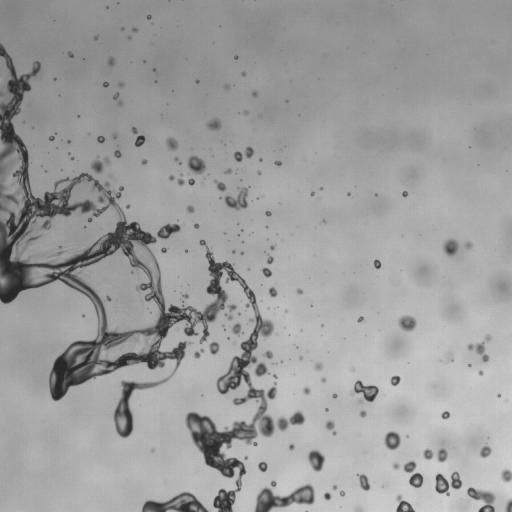droplet: (434, 471, 463, 496), (467, 486, 496, 511), (348, 380, 379, 403), (90, 154, 111, 174), (307, 449, 325, 472), (187, 155, 206, 175), (157, 223, 180, 239), (383, 430, 401, 450), (398, 314, 417, 332), (396, 493, 415, 511), (442, 238, 459, 256), (356, 473, 370, 490), (229, 322, 244, 337), (205, 117, 221, 130), (479, 442, 492, 458), (165, 136, 178, 151), (439, 351, 454, 364), (325, 419, 337, 435), (213, 179, 226, 192), (134, 133, 146, 147), (435, 448, 447, 462), (208, 341, 219, 355), (500, 468, 511, 482), (260, 266, 272, 277), (389, 375, 401, 386), (422, 448, 433, 460), (176, 172, 185, 186), (0, 70, 11, 81), (10, 115, 21, 126), (103, 140, 114, 151), (262, 159, 273, 170), (169, 164, 180, 175), (182, 168, 193, 179), (95, 171, 106, 182), (33, 188, 44, 199), (184, 213, 195, 224), (201, 272, 212, 283), (218, 276, 229, 287), (263, 276, 274, 287), (81, 296, 92, 307), (401, 306, 412, 317), (89, 318, 100, 329), (242, 323, 253, 334), (167, 324, 178, 335), (86, 329, 97, 340), (160, 341, 171, 352), (163, 357, 174, 368), (117, 365, 128, 376), (151, 366, 162, 377), (250, 376, 261, 387), (259, 379, 270, 390), (378, 380, 389, 391), (237, 382, 248, 393), (127, 394, 138, 405), (248, 397, 259, 408), (254, 432, 265, 443), (301, 459, 312, 470), (244, 460, 255, 471), (306, 474, 317, 485), (424, 476, 435, 487), (223, 479, 234, 490), (272, 486, 283, 497), (155, 492, 166, 503), (202, 497, 213, 508), (244, 146, 254, 158), (268, 286, 278, 297), (194, 348, 204, 358), (234, 151, 243, 162), (262, 350, 273, 359), (504, 498, 511, 511), (107, 56, 116, 66), (258, 461, 267, 471), (0, 211, 8, 222), (464, 240, 473, 249), (107, 84, 116, 93), (18, 100, 27, 109), (205, 112, 214, 121), (13, 126, 22, 135), (86, 154, 95, 163), (202, 157, 211, 166), (101, 164, 110, 173), (186, 169, 195, 178), (219, 174, 228, 183), (109, 183, 118, 192), (229, 190, 238, 199), (188, 213, 197, 222), (155, 237, 164, 246), (456, 244, 465, 253), (154, 251, 163, 260), (17, 289, 26, 298), (207, 293, 216, 302), (196, 303, 205, 312), (245, 308, 254, 317), (215, 309, 224, 318), (177, 319, 186, 328), (194, 322, 203, 331), (395, 326, 404, 335), (407, 328, 416, 337), (404, 329, 413, 338), (178, 332, 187, 341), (255, 334, 264, 343), (471, 335, 480, 344), (201, 340, 210, 349), (183, 346, 192, 355), (234, 347, 243, 356), (262, 357, 271, 366), (479, 361, 488, 370), (132, 374, 141, 383), (67, 384, 76, 393), (130, 388, 139, 397), (226, 388, 235, 397), (114, 389, 123, 398), (326, 398, 335, 407), (283, 410, 292, 419), (322, 412, 331, 421), (286, 422, 295, 431), (215, 423, 224, 432), (218, 444, 227, 453), (195, 451, 204, 460), (210, 467, 219, 476), (313, 491, 322, 500), (475, 498, 484, 507), (248, 499, 257, 508), (373, 259, 381, 269), (494, 504, 505, 511), (314, 362, 322, 371), (441, 411, 450, 419), (323, 492, 332, 500), (269, 505, 280, 511), (186, 205, 194, 213), (302, 386, 310, 394), (114, 149, 121, 158), (160, 246, 169, 253), (131, 126, 138, 134), (97, 136, 105, 143), (274, 160, 282, 167), (187, 178, 195, 185), (357, 316, 365, 323), (359, 409, 366, 417), (288, 443, 295, 451), (392, 461, 399, 469), (0, 139, 5, 150), (67, 51, 74, 58), (223, 83, 230, 90), (111, 132, 118, 139), (124, 27, 131, 34), (4, 46, 11, 53), (101, 56, 108, 63), (25, 66, 32, 73), (27, 77, 34, 84), (22, 90, 29, 97), (219, 119, 226, 126), (209, 128, 216, 135), (173, 134, 180, 141), (160, 141, 167, 148), (239, 147, 246, 154), (170, 149, 177, 156), (197, 152, 204, 159), (251, 152, 258, 159), (108, 153, 115, 160), (256, 162, 263, 169), (26, 166, 33, 173), (87, 168, 94, 175), (200, 169, 207, 176), (91, 171, 98, 178), (46, 185, 53, 192), (219, 190, 226, 197), (168, 218, 175, 225), (140, 224, 147, 231), (150, 230, 157, 237), (169, 231, 176, 238), (269, 249, 276, 256), (439, 249, 446, 256), (213, 256, 220, 263), (220, 267, 227, 274), (159, 281, 166, 288), (247, 282, 254, 289), (242, 296, 249, 303), (184, 298, 191, 305), (223, 299, 230, 306), (174, 300, 181, 307), (222, 306, 229, 313), (260, 313, 267, 320), (228, 319, 235, 326), (206, 320, 213, 327), (248, 322, 255, 329), (413, 323, 420, 330), (272, 324, 279, 331), (166, 327, 173, 334), (225, 328, 232, 335), (229, 332, 236, 339), (268, 332, 275, 339), (242, 333, 249, 340), (188, 334, 195, 341), (206, 335, 213, 342), (483, 347, 490, 354), (469, 348, 476, 355), (250, 349, 257, 356), (293, 349, 300, 356), (53, 350, 60, 357), (475, 353, 482, 360), (314, 355, 321, 362), (47, 360, 54, 367), (140, 361, 147, 368), (316, 370, 323, 377), (125, 375, 132, 382), (83, 379, 90, 386), (142, 387, 149, 394), (274, 389, 281, 396), (44, 390, 51, 397), (59, 395, 66, 402), (265, 397, 272, 404), (264, 408, 271, 415), (197, 409, 204, 416), (301, 410, 308, 417), (179, 414, 186, 421), (210, 415, 217, 422), (244, 417, 251, 424), (131, 419, 138, 426), (319, 419, 326, 426), (293, 422, 300, 429), (319, 423, 326, 430), (390, 425, 397, 432), (130, 428, 137, 435), (112, 431, 119, 438), (379, 431, 386, 438), (398, 433, 405, 440), (115, 434, 122, 441), (186, 436, 193, 443), (230, 437, 237, 444), (378, 437, 385, 444), (379, 441, 386, 448), (392, 447, 399, 454), (318, 448, 325, 455), (302, 450, 309, 457), (431, 452, 438, 459), (398, 459, 405, 466), (321, 460, 328, 467), (232, 466, 239, 473), (311, 469, 318, 476), (495, 473, 502, 480), (353, 478, 360, 485), (296, 480, 303, 487), (460, 484, 467, 491), (254, 486, 261, 493), (447, 486, 454, 493), (329, 489, 336, 496), (196, 495, 203, 502), (137, 499, 144, 506), (300, 502, 307, 509), (224, 168, 232, 174), (295, 288, 303, 294), (102, 81, 109, 87), (117, 82, 124, 88), (251, 90, 257, 97), (242, 109, 249, 115), (141, 158, 147, 165), (168, 174, 174, 181), (402, 190, 408, 197), (269, 244, 276, 250), (320, 377, 327, 383), (381, 481, 388, 487), (265, 210, 271, 216), (339, 490, 345, 496), (0, 55, 4, 64), (131, 27, 138, 32), (126, 35, 132, 40), (241, 70, 246, 76), (21, 119, 27, 124), (49, 135, 54, 141), (193, 223, 199, 228), (332, 393, 337, 399), (332, 484, 337, 490), (507, 464, 511, 471), (507, 479, 511, 486), (146, 14, 151, 19), (93, 35, 98, 40), (125, 204, 130, 209), (350, 367, 355, 372), (478, 370, 483, 375), (132, 22, 137, 27), (130, 31, 135, 36), (71, 49, 76, 54), (112, 53, 117, 58), (32, 56, 37, 61), (66, 56, 71, 61), (113, 62, 118, 67), (107, 65, 112, 70), (35, 71, 40, 76), (245, 71, 250, 76), (239, 75, 244, 80), (117, 87, 122, 92), (248, 87, 253, 92), (256, 91, 261, 96), (249, 95, 254, 100), (112, 99, 117, 104), (239, 113, 244, 118), (127, 128, 132, 133), (136, 130, 141, 135), (132, 133, 137, 138), (22, 139, 27, 144), (141, 142, 146, 147), (133, 145, 138, 150), (251, 145, 256, 150), (241, 153, 246, 158), (27, 156, 32, 161), (98, 156, 103, 161), (275, 156, 280, 161), (136, 158, 141, 163), (231, 158, 236, 163), (146, 159, 151, 164), (234, 160, 239, 165), (143, 163, 148, 168), (222, 165, 227, 170), (74, 171, 79, 176), (164, 173, 169, 178), (68, 174, 73, 179), (173, 174, 178, 179), (55, 175, 60, 180), (183, 177, 188, 182), (217, 177, 222, 182), (172, 178, 177, 183), (98, 179, 103, 184), (183, 180, 188, 185), (117, 181, 122, 186), (212, 183, 217, 188), (114, 187, 119, 192), (314, 188, 319, 193), (120, 190, 125, 195), (313, 192, 318, 197), (39, 195, 44, 200), (113, 197, 118, 202), (245, 197, 250, 202), (220, 198, 225, 203), (187, 200, 192, 205), (192, 204, 197, 209), (121, 206, 126, 211), (229, 206, 234, 211), (239, 207, 244, 212), (182, 208, 187, 213), (5, 213, 10, 218), (162, 220, 167, 225), (176, 220, 181, 225), (238, 223, 243, 228), (179, 225, 184, 230), (155, 236, 160, 241), (469, 237, 474, 242), (205, 240, 210, 245), (267, 240, 272, 245), (147, 242, 152, 247), (471, 244, 476, 249), (273, 246, 278, 251), (265, 247, 270, 252), (466, 248, 471, 253), (234, 250, 239, 255), (227, 258, 232, 263), (204, 261, 209, 266), (369, 262, 374, 267), (158, 263, 163, 268), (265, 263, 270, 268), (233, 267, 238, 272), (259, 272, 264, 277), (240, 273, 245, 278), (54, 278, 59, 283), (232, 279, 237, 284), (245, 280, 250, 285), (41, 284, 46, 289), (38, 285, 43, 290), (65, 285, 70, 290), (35, 286, 40, 291), (264, 286, 269, 291), (274, 286, 279, 291), (291, 286, 296, 291), (201, 287, 206, 292), (71, 288, 76, 293), (253, 291, 258, 296), (292, 291, 297, 296), (265, 292, 270, 297), (297, 293, 302, 298), (254, 295, 259, 300), (270, 296, 275, 301), (255, 299, 260, 304), (247, 305, 252, 310), (231, 309, 236, 314), (206, 327, 211, 332), (270, 330, 275, 335), (487, 330, 492, 335), (198, 331, 203, 336), (74, 336, 79, 341), (465, 339, 470, 344), (173, 342, 178, 347), (218, 344, 223, 349), (463, 346, 468, 351), (271, 350, 276, 355), (215, 351, 220, 356), (199, 352, 204, 357), (270, 356, 275, 361), (487, 357, 492, 362), (171, 358, 176, 363), (179, 358, 184, 363), (310, 361, 315, 366), (447, 361, 452, 366), (321, 362, 326, 367), (154, 365, 159, 370), (223, 367, 228, 372), (482, 369, 487, 374), (473, 370, 478, 375), (392, 371, 397, 376), (105, 372, 110, 377), (102, 373, 107, 378), (95, 374, 100, 379), (476, 374, 481, 379), (325, 376, 330, 381), (398, 379, 403, 384), (362, 381, 367, 386), (386, 381, 391, 386), (320, 382, 325, 387), (349, 384, 354, 389), (227, 387, 232, 392), (298, 387, 303, 392), (309, 387, 314, 392), (214, 389, 219, 394), (217, 392, 222, 397), (304, 393, 309, 398), (374, 394, 379, 399), (363, 399, 368, 404), (240, 402, 245, 407), (111, 404, 116, 409), (110, 407, 115, 412), (354, 410, 359, 415), (365, 410, 370, 415), (448, 410, 453, 415), (357, 415, 362, 420), (362, 415, 367, 420), (236, 417, 241, 422), (445, 417, 450, 422), (110, 421, 115, 426), (227, 425, 232, 430), (332, 425, 337, 430), (327, 429, 332, 434), (287, 439, 292, 444), (293, 442, 298, 447), (487, 442, 492, 447), (248, 443, 253, 448), (284, 443, 289, 448), (441, 444, 446, 449), (385, 447, 390, 452), (476, 447, 481, 452), (486, 454, 491, 459), (237, 456, 242, 461), (408, 456, 413, 461), (257, 457, 262, 462), (262, 457, 267, 462), (424, 458, 429, 463), (443, 458, 448, 463), (387, 463, 392, 468), (399, 463, 404, 468), (243, 464, 248, 469), (255, 467, 260, 472), (265, 467, 270, 472), (412, 468, 417, 473), (358, 469, 363, 474), (407, 471, 412, 476), (241, 473, 246, 478), (421, 473, 426, 478), (458, 475, 463, 480), (446, 478, 451, 483), (367, 479, 372, 484), (421, 479, 426, 484), (431, 479, 436, 484), (329, 480, 334, 485), (240, 483, 245, 488), (266, 483, 271, 488), (473, 485, 478, 490), (415, 486, 420, 491), (184, 487, 189, 492), (335, 487, 340, 492), (358, 487, 363, 492), (188, 488, 193, 493), (362, 489, 367, 494), (174, 490, 179, 495), (433, 490, 438, 495), (213, 491, 218, 496), (234, 491, 239, 496), (167, 494, 172, 499), (401, 495, 406, 500), (326, 498, 331, 503), (394, 500, 399, 505), (411, 504, 416, 509), (310, 190, 314, 196), (271, 361, 277, 365), (120, 26, 124, 31), (257, 170, 261, 175), (107, 174, 112, 178), (321, 219, 326, 223), (299, 355, 303, 360), (151, 447, 155, 452), (234, 55, 238, 59), (195, 79, 199, 83), (67, 139, 71, 143), (70, 156, 74, 160), (319, 186, 323, 190), (240, 251, 244, 255), (284, 309, 288, 313), (497, 393, 501, 397), (405, 434, 409, 438), (259, 157, 262, 162), (232, 249, 235, 254), (503, 399, 508, 402), (324, 408, 329, 411), (244, 456, 247, 461), (168, 508, 173, 511), (391, 508, 396, 511), (142, 60, 146, 63), (53, 77, 56, 81), (285, 99, 289, 102), (347, 192, 350, 196), (240, 228, 244, 231), (185, 249, 188, 253), (247, 267, 250, 271), (310, 303, 313, 307), (266, 306, 269, 310), (237, 312, 241, 315), (321, 323, 324, 327), (300, 328, 303, 332), (0, 299, 2, 304), (106, 6, 109, 9), (154, 80, 157, 83), (54, 132, 57, 135), (67, 152, 70, 155), (60, 168, 63, 171), (374, 193, 377, 196), (265, 225, 268, 228), (241, 240, 244, 243), (259, 299, 262, 302), (82, 314, 85, 317), (280, 360, 283, 363), (468, 364, 471, 367), (103, 3, 106, 6), (106, 8, 109, 11), (148, 11, 151, 14), (143, 15, 146, 18), (147, 18, 150, 21), (93, 32, 96, 35), (97, 35, 100, 38), (90, 36, 93, 39), (94, 39, 97, 42), (81, 54, 84, 57), (230, 56, 233, 59), (237, 56, 240, 59), (144, 57, 147, 60), (233, 58, 236, 61), (81, 59, 84, 62), (139, 60, 142, 63), (149, 67, 152, 70), (155, 68, 158, 71), (239, 68, 242, 71), (152, 71, 155, 74), (52, 74, 55, 77), (55, 75, 58, 78), (153, 76, 156, 79), (196, 76, 199, 79), (104, 78, 107, 81), (54, 79, 57, 82), (192, 80, 195, 83), (198, 81, 201, 84), (99, 82, 102, 85), (154, 82, 157, 85), (229, 84, 232, 87), (106, 85, 109, 88), (102, 86, 105, 89), (109, 96, 112, 99), (116, 97, 119, 100), (239, 109, 242, 112), (77, 111, 80, 114), (73, 114, 76, 117), (79, 114, 82, 117), (24, 119, 27, 122), (134, 124, 137, 127), (34, 125, 37, 128), (32, 128, 35, 131), (51, 132, 54, 135), (98, 132, 101, 135), (102, 134, 105, 137), (45, 136, 48, 139), (67, 136, 70, 139), (115, 137, 118, 140), (144, 137, 147, 140), (63, 139, 66, 142), (103, 139, 106, 142), (49, 140, 52, 143), (223, 140, 226, 143), (96, 141, 99, 144), (68, 142, 71, 145), (99, 142, 102, 145), (468, 142, 471, 145), (220, 143, 223, 146), (139, 144, 142, 147), (115, 146, 118, 149), (67, 148, 70, 151), (119, 149, 122, 152), (64, 151, 67, 154), (69, 153, 72, 156), (120, 154, 123, 157), (144, 156, 147, 159), (178, 158, 181, 161), (71, 159, 74, 162), (271, 159, 274, 162), (259, 161, 262, 164), (279, 164, 282, 167), (43, 166, 46, 169), (41, 170, 44, 173), (83, 170, 86, 173), (231, 170, 234, 173), (236, 170, 239, 173), (260, 170, 263, 173), (254, 171, 257, 174), (258, 174, 261, 177), (63, 175, 66, 178), (236, 178, 239, 181), (192, 183, 195, 186), (188, 184, 191, 187), (244, 184, 247, 187), (250, 184, 253, 187), (317, 184, 320, 187), (322, 185, 325, 188), (123, 186, 126, 189), (247, 187, 250, 190), (347, 188, 350, 191), (405, 188, 408, 191), (320, 189, 323, 192), (308, 190, 311, 193), (399, 190, 402, 193), (344, 191, 347, 194), (407, 191, 410, 194), (350, 192, 353, 195), (371, 192, 374, 195), (377, 192, 380, 195), (399, 193, 402, 196), (311, 195, 314, 198), (347, 195, 350, 198), (405, 195, 408, 198), (258, 196, 261, 199), (255, 199, 258, 202), (129, 205, 132, 208), (265, 207, 268, 210), (269, 209, 272, 212), (263, 213, 266, 216), (267, 215, 270, 218), (319, 217, 322, 220), (324, 217, 327, 220), (195, 220, 198, 223), (321, 221, 324, 224), (198, 222, 201, 225), (267, 223, 270, 226), (190, 224, 193, 227), (262, 226, 265, 229), (267, 226, 270, 229), (193, 227, 196, 230), (222, 228, 225, 231), (243, 228, 246, 231), (239, 231, 242, 234), (220, 232, 223, 235), (250, 233, 253, 236), (235, 235, 238, 238), (200, 236, 203, 239), (196, 240, 199, 243), (242, 242, 245, 245), (202, 244, 205, 247), (231, 246, 234, 249), (187, 247, 190, 250), (166, 248, 169, 251), (181, 249, 184, 252), (260, 249, 263, 252), (203, 250, 206, 253), (164, 251, 167, 254), (186, 251, 189, 254), (242, 253, 245, 256), (375, 256, 378, 259), (272, 258, 275, 261), (378, 258, 381, 261), (380, 263, 383, 266), (378, 266, 381, 269), (268, 275, 271, 278), (299, 286, 302, 289), (302, 289, 305, 292), (175, 290, 178, 293), (186, 291, 189, 294), (307, 302, 310, 305), (312, 302, 315, 305), (269, 306, 272, 309), (310, 306, 313, 309), (275, 307, 278, 310), (286, 307, 289, 310), (281, 308, 284, 311), (360, 313, 363, 316), (78, 314, 81, 317), (84, 314, 87, 317), (355, 316, 358, 319), (363, 316, 366, 319), (321, 320, 324, 323), (358, 321, 361, 324), (317, 323, 320, 326), (323, 324, 326, 327), (220, 327, 223, 330), (287, 335, 290, 338), (295, 342, 298, 345), (292, 345, 295, 348), (297, 347, 300, 350), (296, 356, 299, 359), (441, 356, 444, 359), (195, 357, 198, 360), (453, 357, 456, 360), (467, 360, 470, 363), (281, 362, 284, 365), (464, 363, 467, 366), (467, 366, 470, 369), (275, 373, 278, 376), (271, 376, 274, 379), (166, 379, 169, 382), (352, 380, 355, 383), (331, 390, 334, 393), (497, 390, 500, 393), (336, 392, 339, 395), (197, 393, 200, 396), (329, 393, 332, 396), (202, 394, 205, 397), (494, 394, 497, 397), (500, 394, 503, 397), (336, 395, 339, 398), (331, 397, 334, 400), (324, 404, 327, 407), (444, 408, 447, 411), (322, 409, 325, 412), (441, 409, 444, 412), (439, 416, 442, 419), (443, 418, 446, 421), (335, 432, 338, 435), (408, 433, 411, 436), (490, 450, 493, 453), (247, 455, 250, 458), (255, 464, 258, 467), (411, 485, 414, 488), (218, 486, 221, 489), (380, 487, 383, 490), (342, 488, 345, 491), (343, 494, 346, 497), (339, 495, 342, 498), (227, 336, 229, 340), (77, 115, 80, 117), (87, 133, 90, 135), (44, 170, 47, 172), (240, 178, 242, 181), (256, 197, 259, 199), (237, 222, 239, 225), (223, 232, 226, 234), (237, 233, 239, 236), (117, 2, 119, 4), (224, 144, 226, 146), (468, 146, 470, 148), (207, 173, 209, 175), (354, 185, 356, 187), (177, 219, 179, 221), (276, 233, 278, 235), (266, 238, 268, 240), (187, 283, 189, 285), (283, 326, 285, 328), (201, 394, 203, 396), (487, 437, 489, 439), (116, 0, 119, 1), (168, 0, 170, 1), (260, 284, 262, 285), (288, 334, 290, 335), (249, 234, 250, 235), (174, 290, 175, 291)
ligament: (403, 460, 423, 488), (112, 92, 124, 107), (264, 251, 273, 264), (174, 156, 182, 165), (353, 505, 365, 511), (293, 343, 299, 349), (221, 324, 226, 331), (80, 225, 88, 229), (152, 68, 156, 74), (88, 270, 95, 273), (235, 168, 238, 174), (230, 341, 236, 344), (305, 510, 308, 511)
